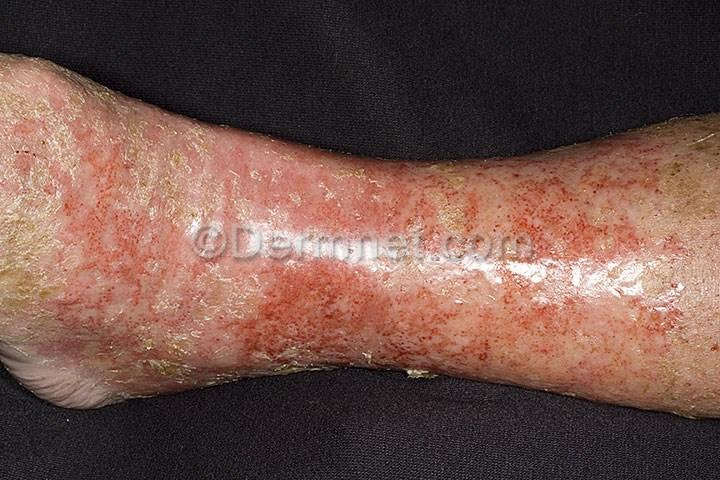Eczema: (0, 82, 247, 225), (0, 223, 160, 397), (240, 134, 467, 240), (159, 259, 359, 374), (357, 263, 535, 382), (475, 153, 657, 262), (547, 283, 699, 406), (658, 113, 720, 258), (688, 256, 720, 423)
